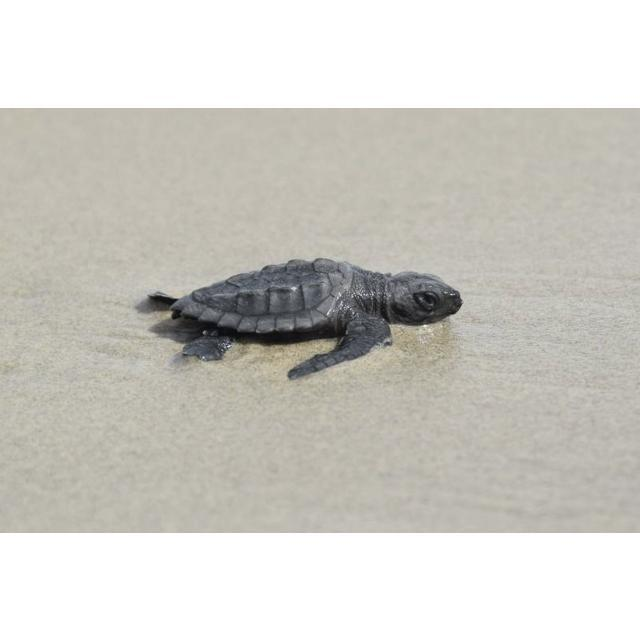turtle: (150, 257, 467, 379)
